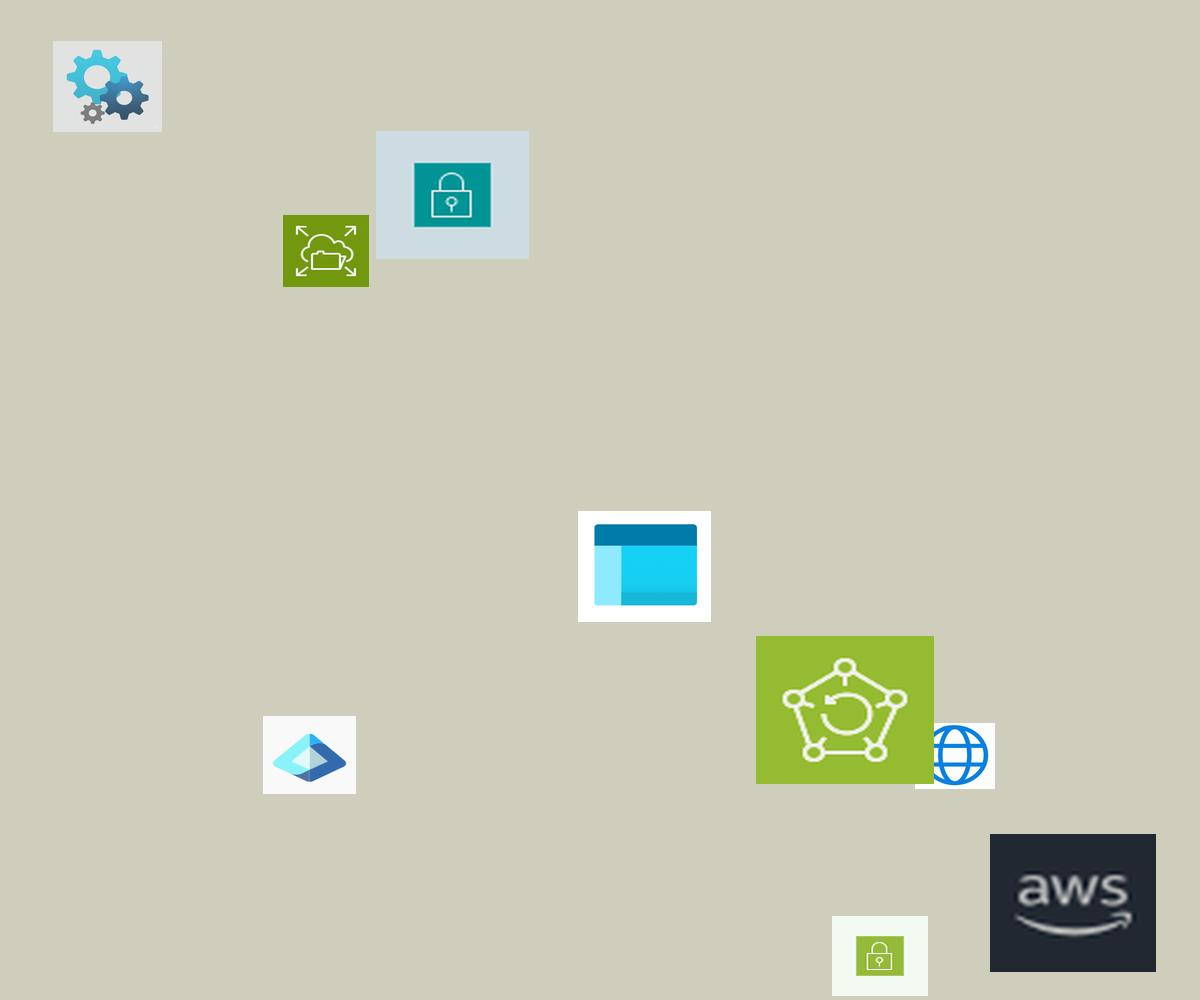AWS-Backup: (756, 636, 934, 784)
AWS-Cloud-logo: (990, 834, 1156, 972)
AWS-EFS: (283, 215, 369, 287)
AWS-Private-subnet: (376, 131, 529, 259)
AWS-Public-subnet: (832, 916, 928, 996)
Azure_api: (53, 41, 162, 132)
Azure_http: (915, 723, 995, 789)
Azure_management-portal: (578, 511, 711, 622)
Azure_microsoft_entra: (263, 716, 356, 794)
